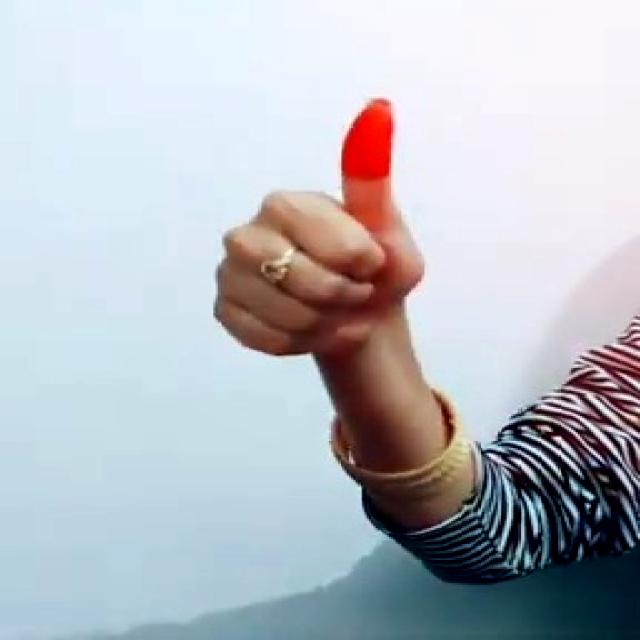Shikhara: (178, 90, 479, 378)
bangle: (303, 387, 503, 500)
